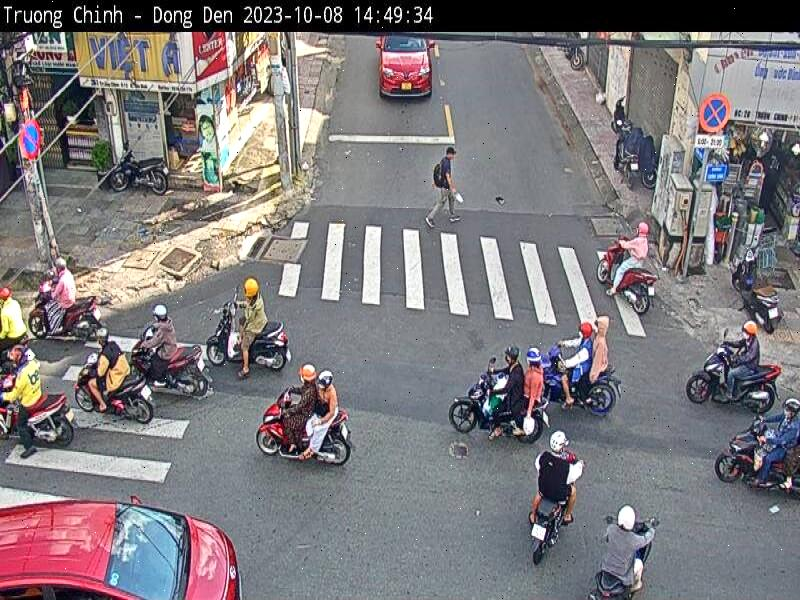car: (0, 466, 245, 600), (377, 40, 448, 107)
motorcycle: (438, 357, 553, 454), (248, 382, 357, 473), (490, 474, 581, 566), (681, 338, 798, 408), (124, 306, 217, 392), (580, 237, 676, 320), (206, 295, 293, 373), (63, 346, 148, 423), (521, 352, 630, 412), (706, 415, 800, 480), (731, 238, 794, 334), (21, 264, 22, 264)
